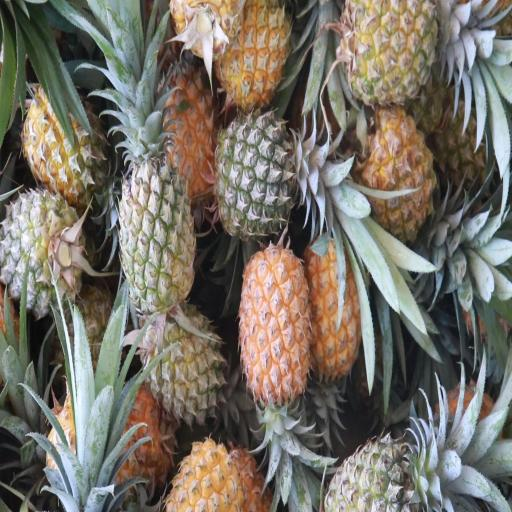------------------------------: (115, 128, 194, 298), (139, 301, 224, 416), (15, 85, 104, 192), (344, 0, 438, 97)
Pineapple - v8 v1: (241, 240, 313, 399), (361, 103, 438, 232), (304, 230, 366, 377), (157, 60, 220, 198), (217, 0, 290, 100)
